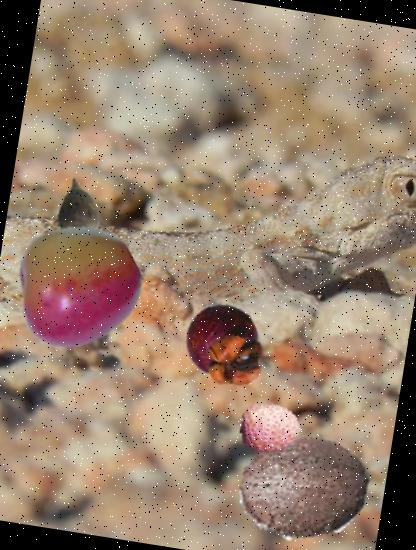Beetroot: (36, 172, 121, 256)
Cactus: (46, 221, 150, 325)
Cherry: (4, 212, 148, 356)
Cocos: (228, 411, 379, 550)
Lychee: (236, 395, 305, 464)
Mangostan: (174, 296, 276, 398)
